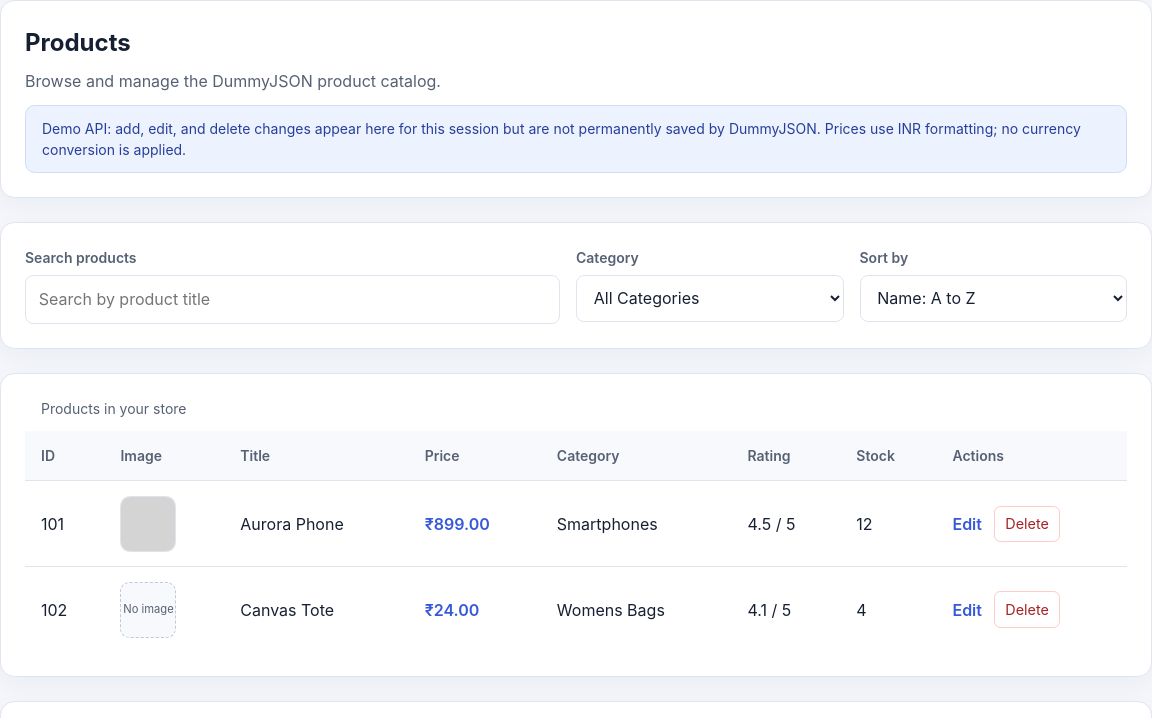
Test: Products page › confirms and removes a product after a successful delete request
This screenshot has width=1152, height=718.
Click the button with aria-label "Delete Aurora Phone". click: (1027, 524)
box: [994, 506, 1060, 542]
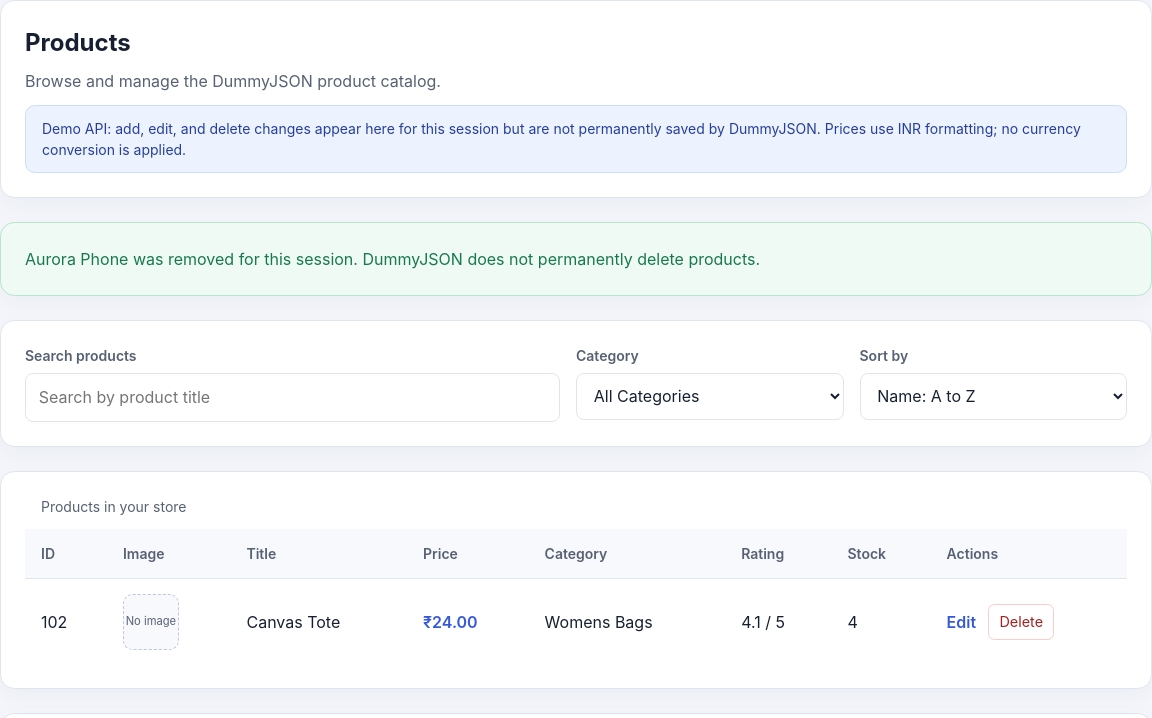
Result: the message shows "removed for this session" at [25, 249, 760, 269]
